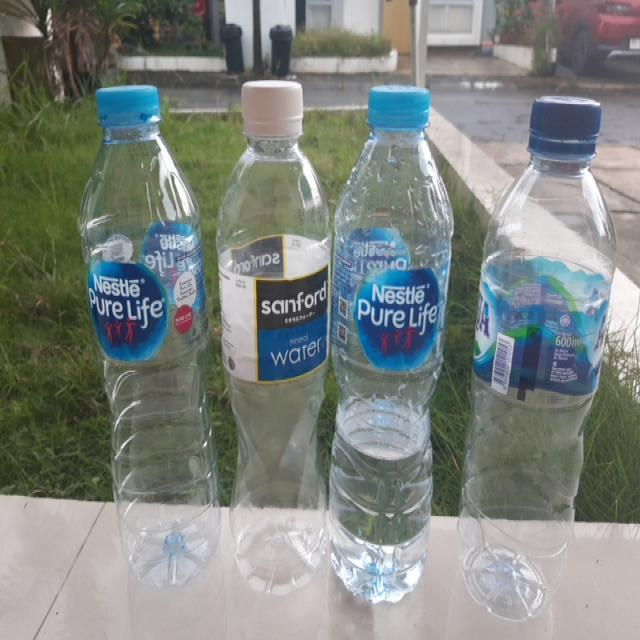PET Bottle: (57, 55, 222, 623), (466, 70, 618, 625), (204, 72, 332, 614), (334, 80, 444, 606)
